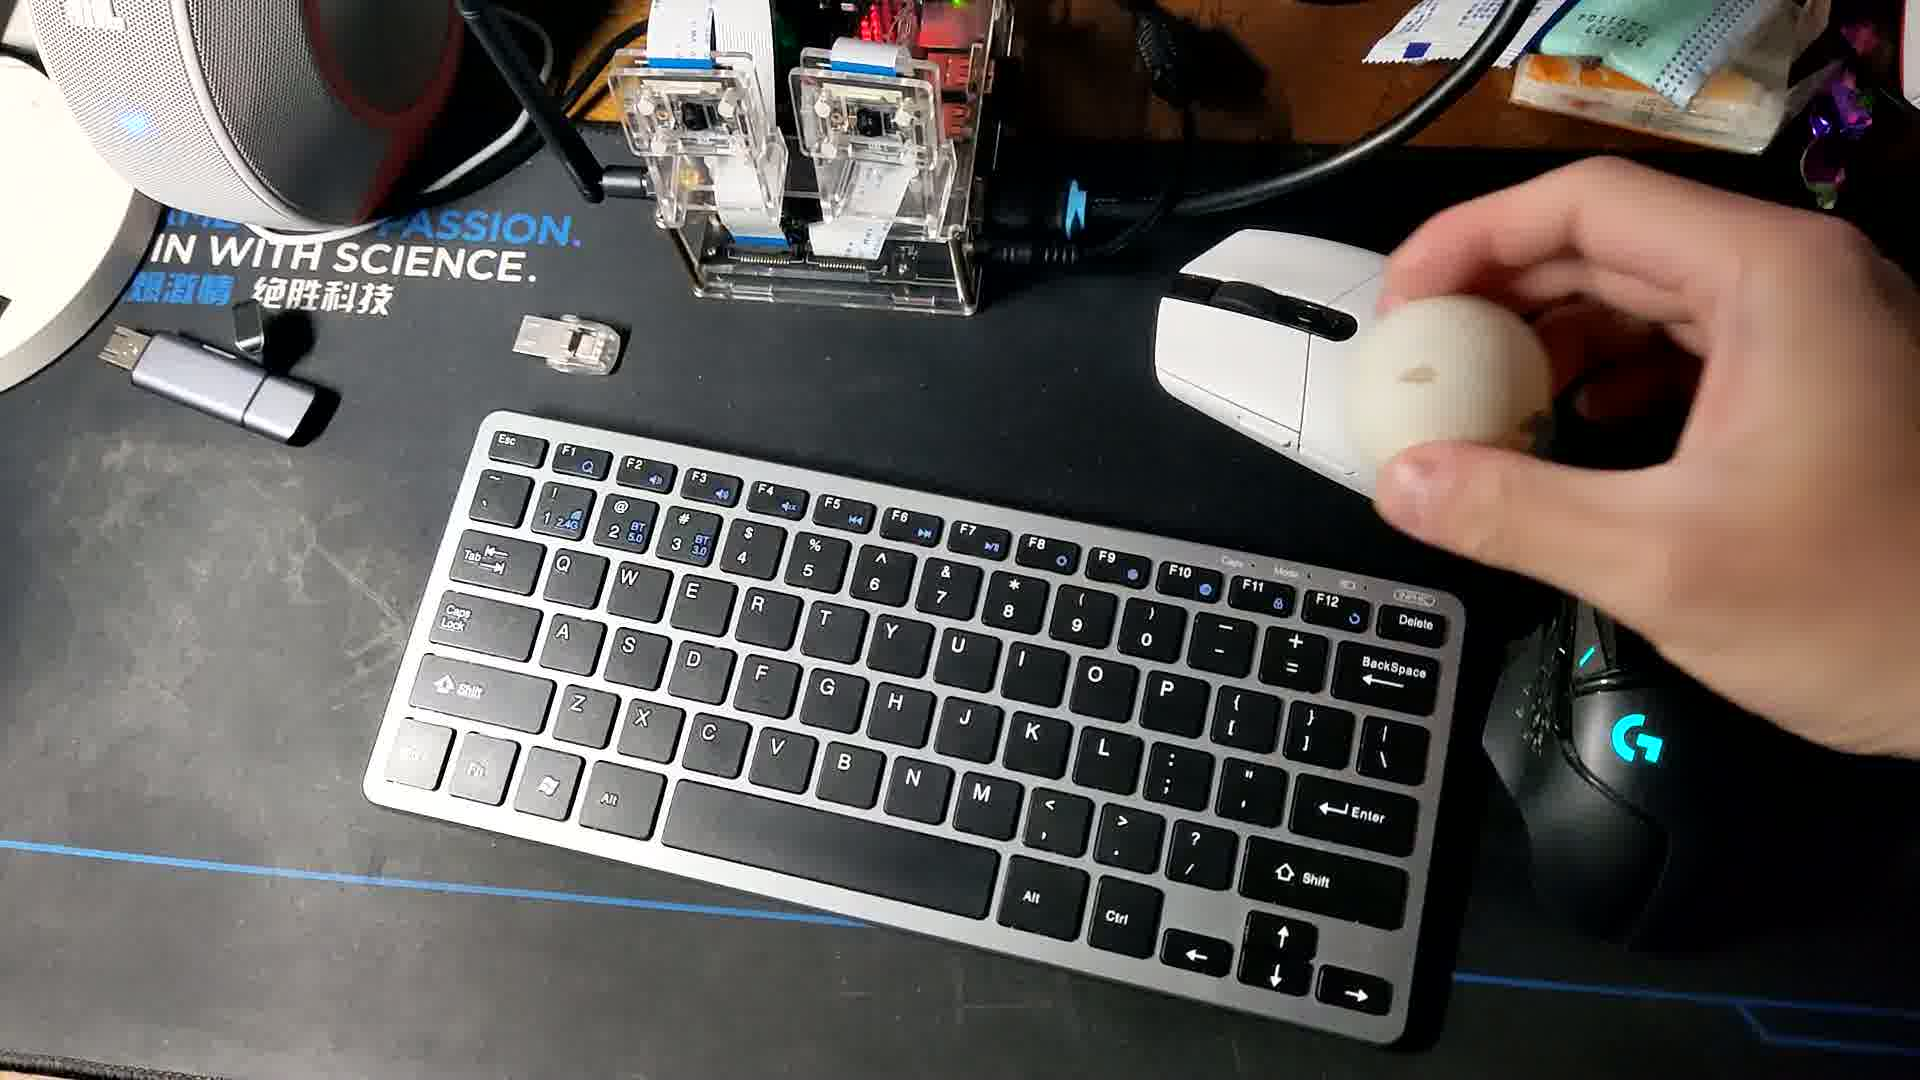Ball: (1340, 293, 1555, 483)
